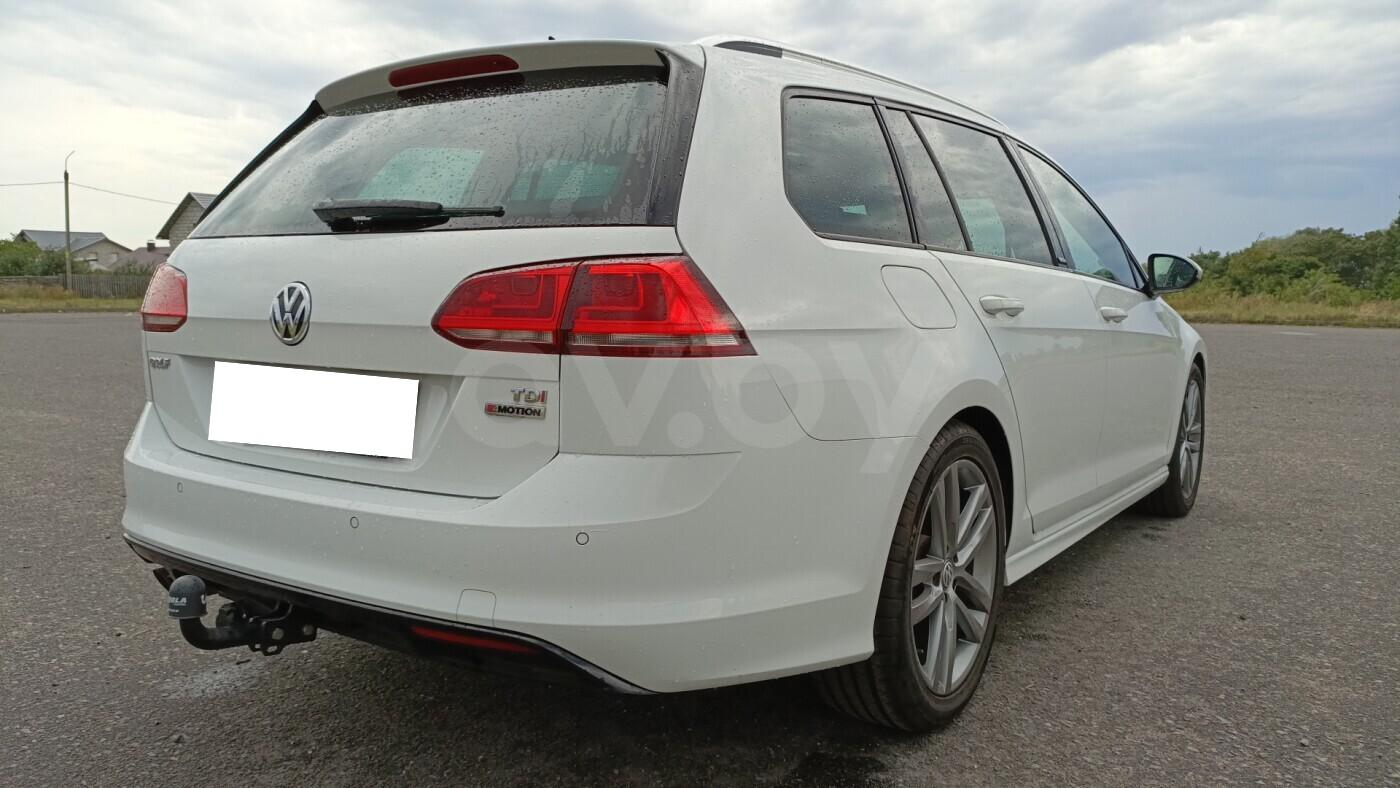Golf_2012-2017: (111, 37, 1213, 739)
